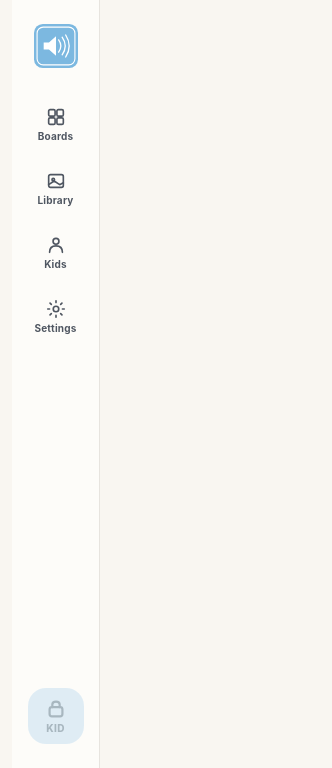
it: ParentShell navigation › moves to the tapped section
Click the button "Library" at (56, 188), box x1=28 y1=160 x2=84 y2=216
(page scrolled)
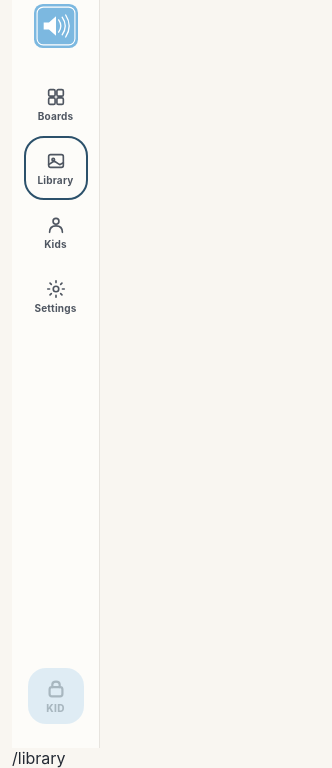
Check: the text with test id "path" reads "/library", box x1=12 y1=748 x2=66 y2=767
